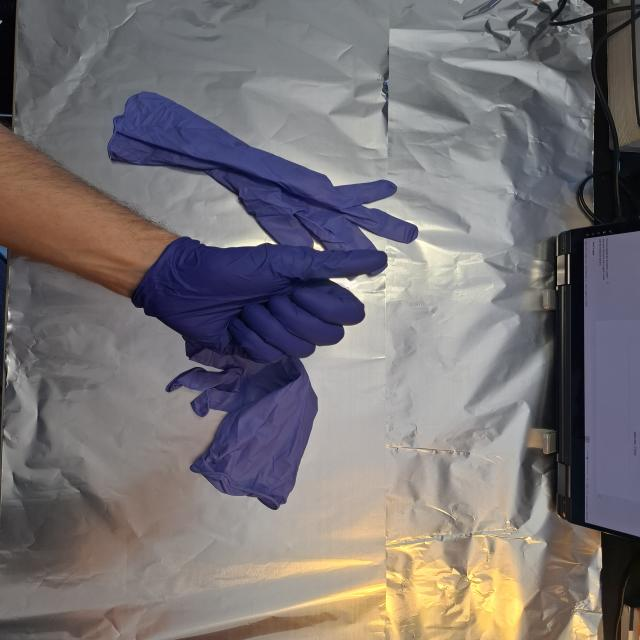glove_on: (134, 235, 390, 366)
